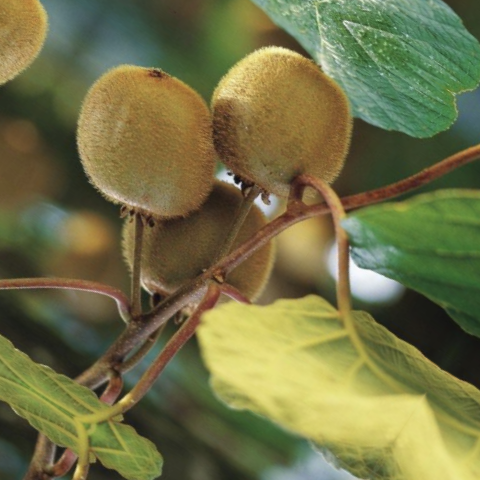kiwi: (154, 9, 395, 241), (84, 130, 307, 349), (32, 33, 257, 250)
